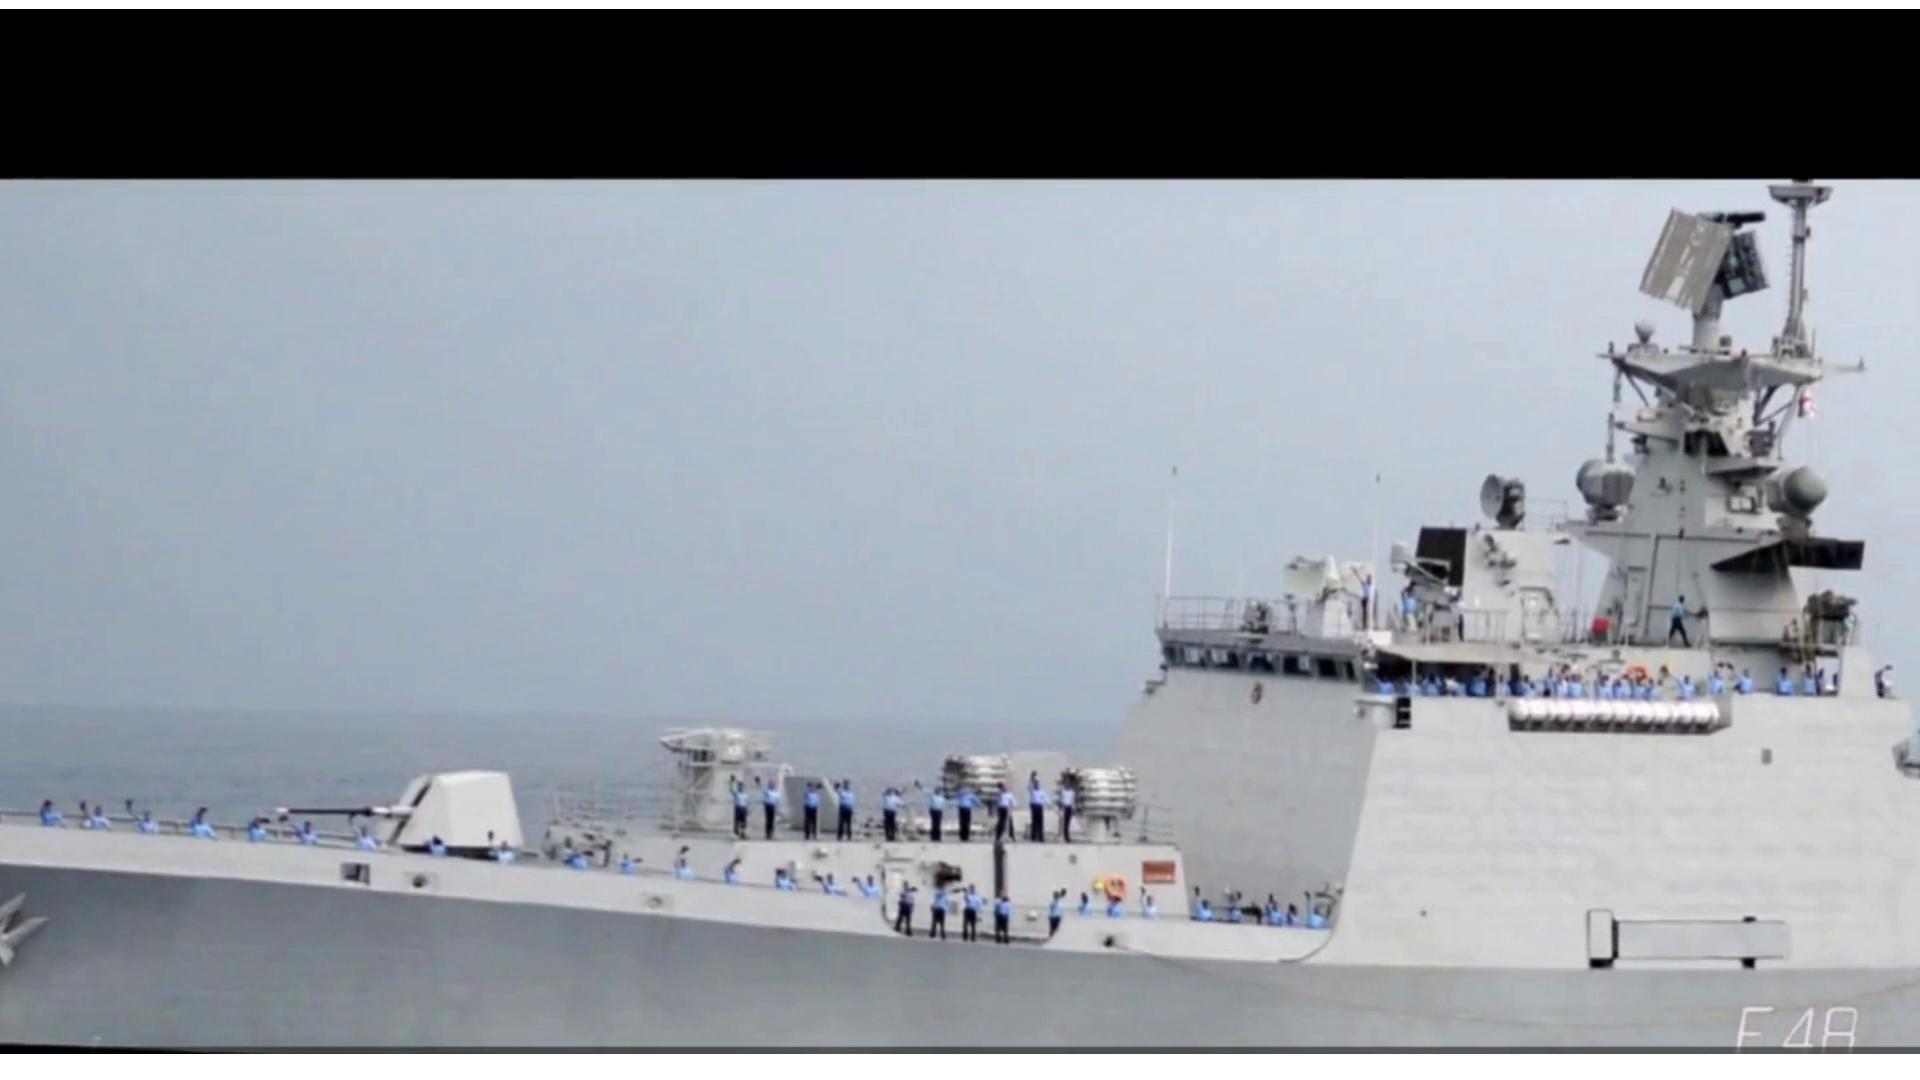OCR: (1717, 990, 1853, 1052)
